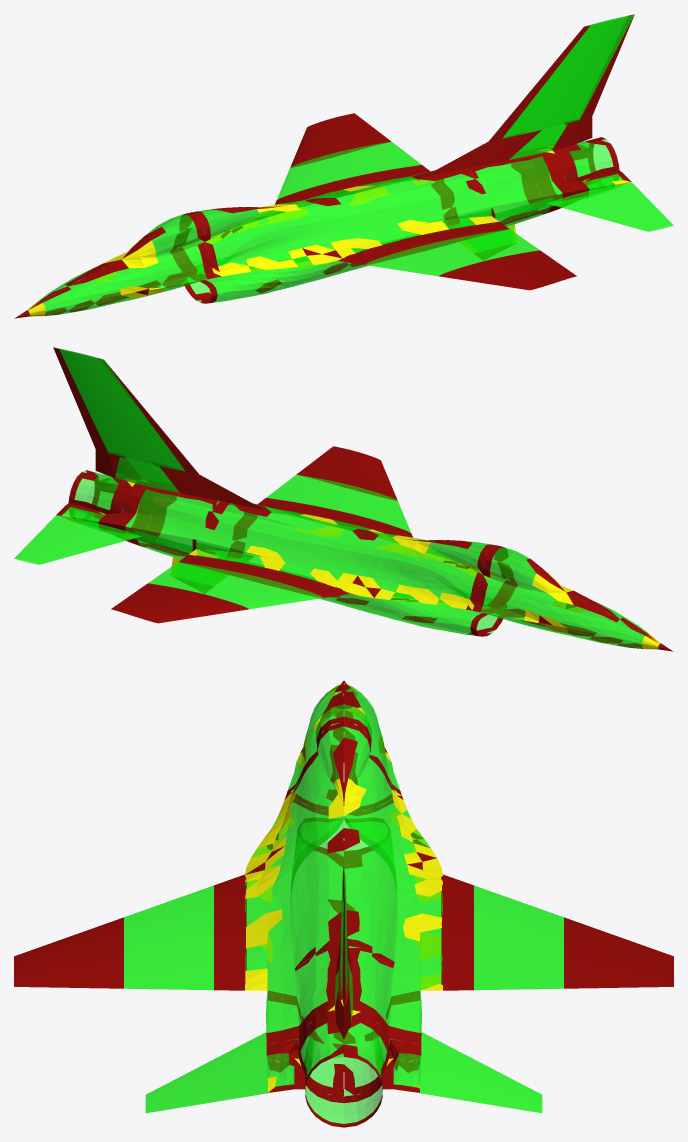
File: f16_colour.obj
3 views of the same model, one above another, from view 1: azimuth 30°, elevation 25°; view 2: azimuth 150°, elevation 25°; view 3: azimuth 270°, elevation 25° (orthographic). The views are drawn at different scales.
Size of the model in its own units: 16.1 by 4.85 by 10.
